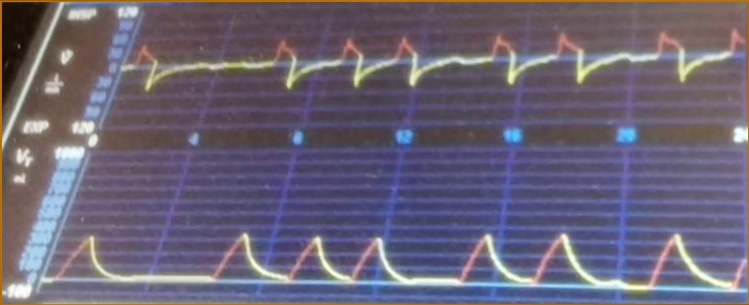Ineffective_effort Flow: (129, 23, 745, 112)
Ineffective_effort Volume: (51, 225, 748, 296)
